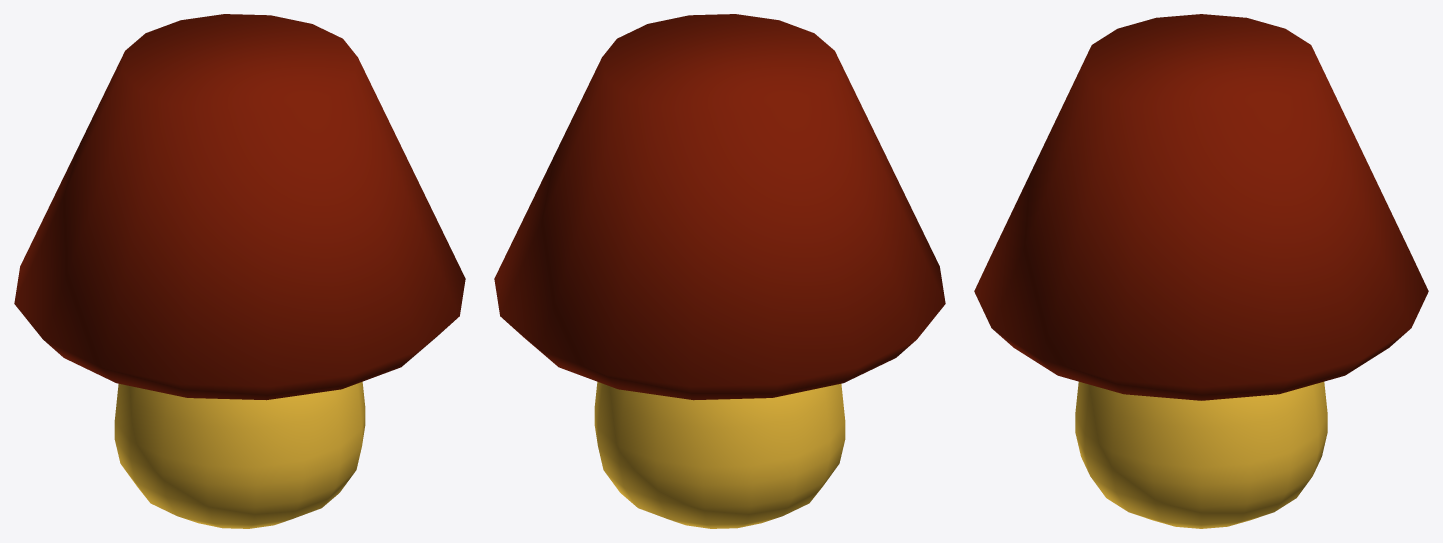
The model's file is Prop_HomeLamp_03.fbx.
3 views of the same model, side by side, from view 1: azimuth 30°, elevation 25°; view 2: azimuth 150°, elevation 25°; view 3: azimuth 270°, elevation 25° (orthographic).
Visible parts, largest first — view 1: Prop_HomeLamp_03; view 2: Prop_HomeLamp_03; view 3: Prop_HomeLamp_03.
Boxes of the visible parts, box(x1,y1,x2,y2) form: Prop_HomeLamp_03: box(14, 14, 465, 528); Prop_HomeLamp_03: box(494, 14, 945, 528); Prop_HomeLamp_03: box(974, 14, 1428, 528).
Size of the model in its own units: 43.76 by 47 by 43.76.
